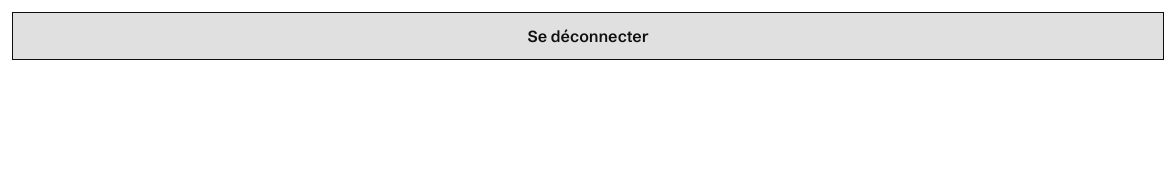
Test: LogoutButton › déconnecte, prévient l'en-tête et recharge la page d'accueil
Click the button "Se déconnecter" at point(588, 36), box [12,12,1164,60]
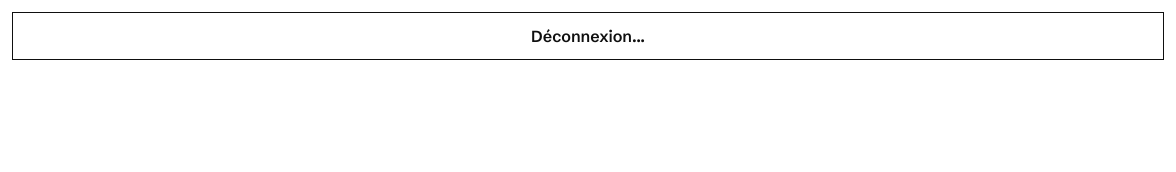
Check: the button "Déconnexion..." is disabled, box [12,12,1164,60]
